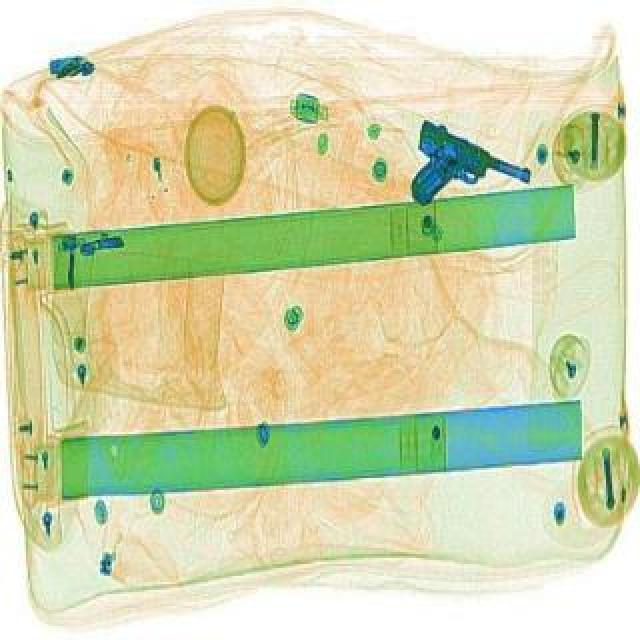gun: (394, 120, 538, 224)
